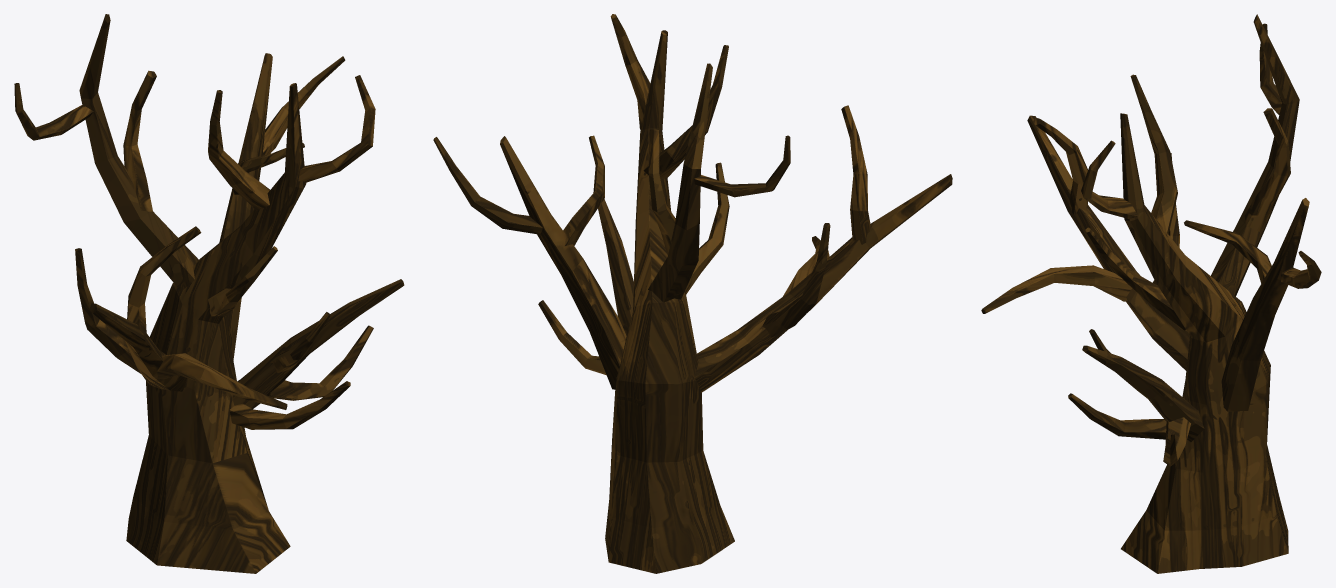
Rendered from Dead_Bush2.fbx.
3 renders of one model, left to right at view 1: azimuth 30°, elevation 25°; view 2: azimuth 150°, elevation 25°; view 3: azimuth 270°, elevation 25°, orthographic. The views are drawn at different scales.
Parts seen in each view (by area): view 1: Dead_Bush_2; view 2: Dead_Bush_2; view 3: Dead_Bush_2.
Part boxes in pixels (bbox=[...]): Dead_Bush_2: bbox=[14, 14, 404, 573]; Dead_Bush_2: bbox=[433, 14, 952, 573]; Dead_Bush_2: bbox=[981, 14, 1321, 573].
Bounding box in the file's own units: 25.97 × 20.43 × 33.03.
